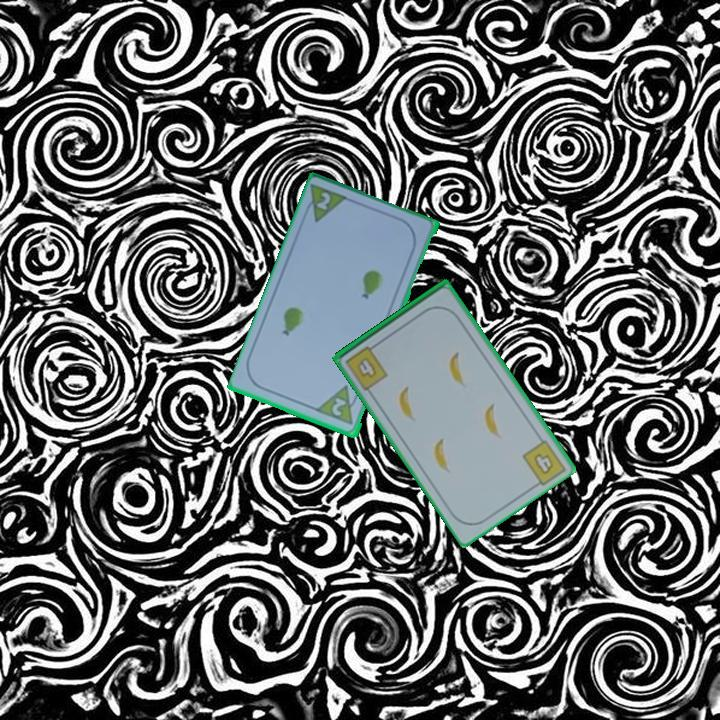2p: (300, 181, 352, 226), (328, 394, 349, 419)
4b: (342, 339, 391, 393), (530, 450, 557, 478)
